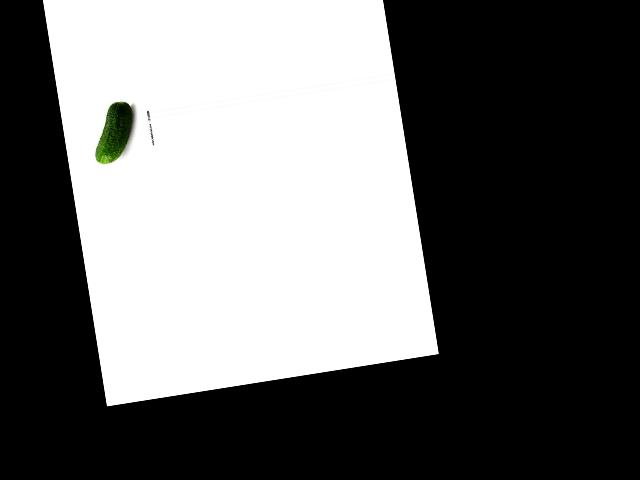cucumber: (87, 99, 139, 164)
